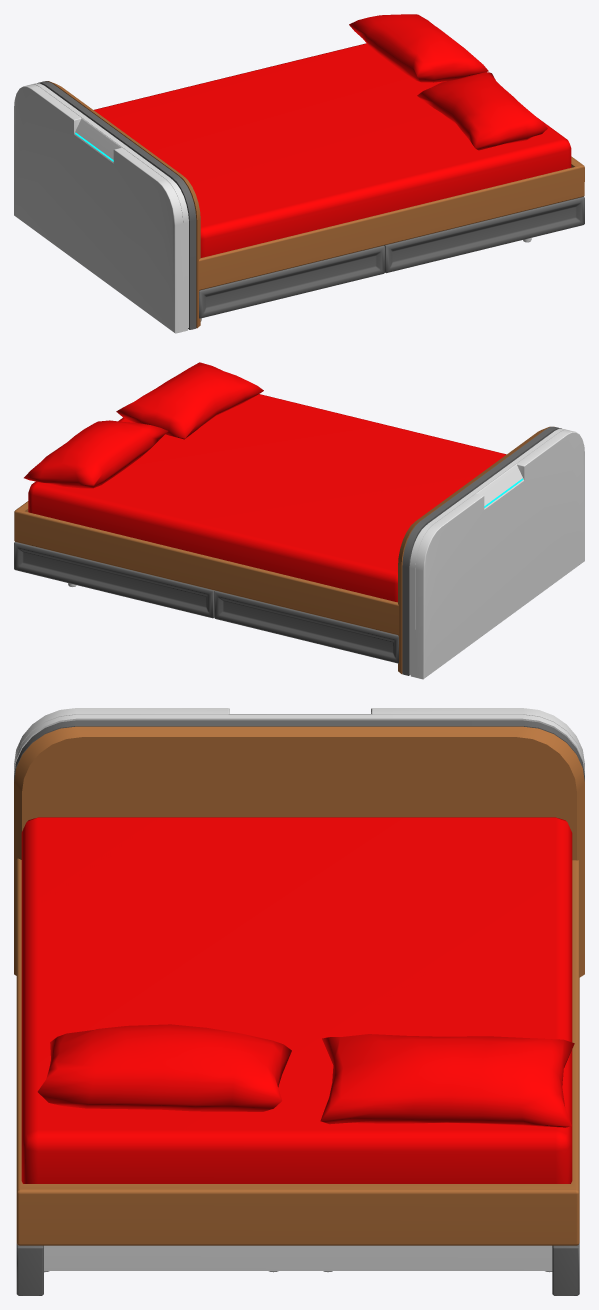
File: Bed.fbx
3 renders of one model, top to bottom at view 1: azimuth 30°, elevation 25°; view 2: azimuth 150°, elevation 25°; view 3: azimuth 270°, elevation 25°, orthographic. The views are drawn at different scales.
Visible parts, largest first — view 1: Bed_Mesh, BedcMattress, Pillows_low; view 2: Bed_Mesh, BedcMattress, Pillows_low; view 3: BedcMattress, Bed_Mesh, Pillows_low.
Part boxes in pixels (x1,y1,x2,y2): Bed_Mesh: (14, 81, 584, 333); BedcMattress: (94, 43, 571, 257); Pillows_low: (349, 14, 547, 150); Bed_Mesh: (14, 426, 584, 679); BedcMattress: (28, 394, 506, 602); Pillows_low: (24, 362, 263, 488); BedcMattress: (21, 817, 572, 1183); Bed_Mesh: (14, 708, 584, 1295); Pillows_low: (37, 1024, 574, 1127).
Size of the model in its own units: 229 by 75.41 by 156.
